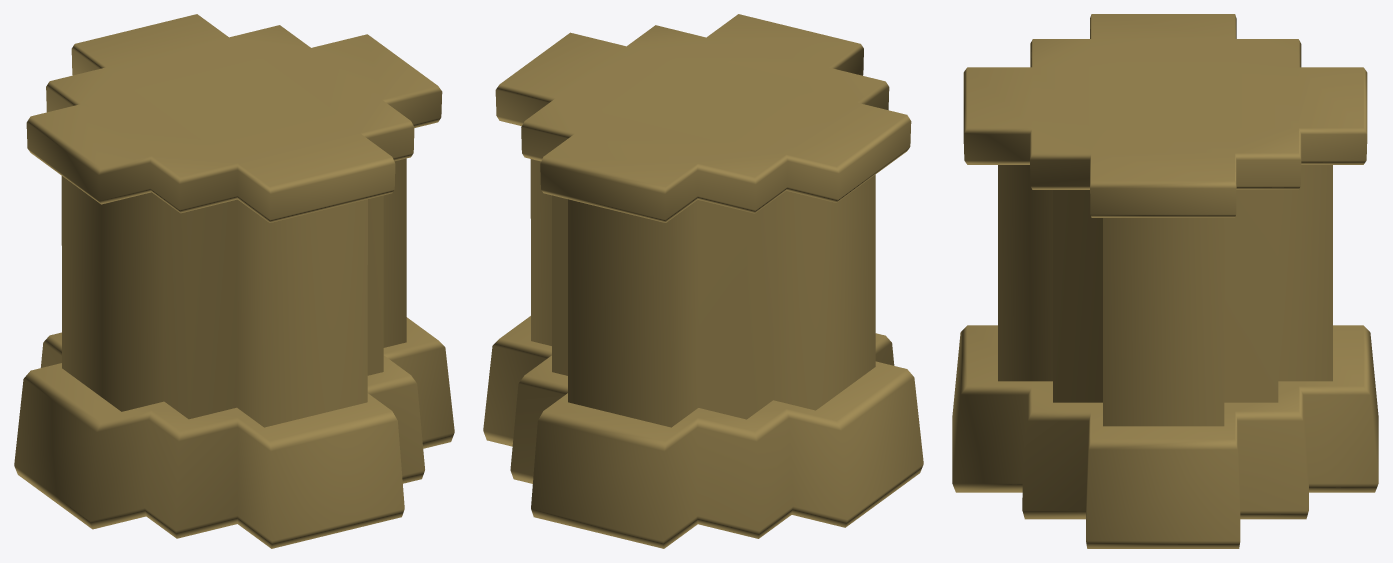
Rendered from Pillar_03_Half_Lod0.fbx.
3 renders of one model, left to right at view 1: azimuth 30°, elevation 25°; view 2: azimuth 150°, elevation 25°; view 3: azimuth 270°, elevation 25°, orthographic.
Parts seen in each view (by area): view 1: Pillar_03_Half_Lod0; view 2: Pillar_03_Half_Lod0; view 3: Pillar_03_Half_Lod0.
Boxes of the visible parts, <box> form: Pillar_03_Half_Lod0: <box>14,14,454,548</box>; Pillar_03_Half_Lod0: <box>483,14,923,548</box>; Pillar_03_Half_Lod0: <box>952,14,1378,548</box>.
Bounding box in the file's own units: 165 × 155 × 165.
